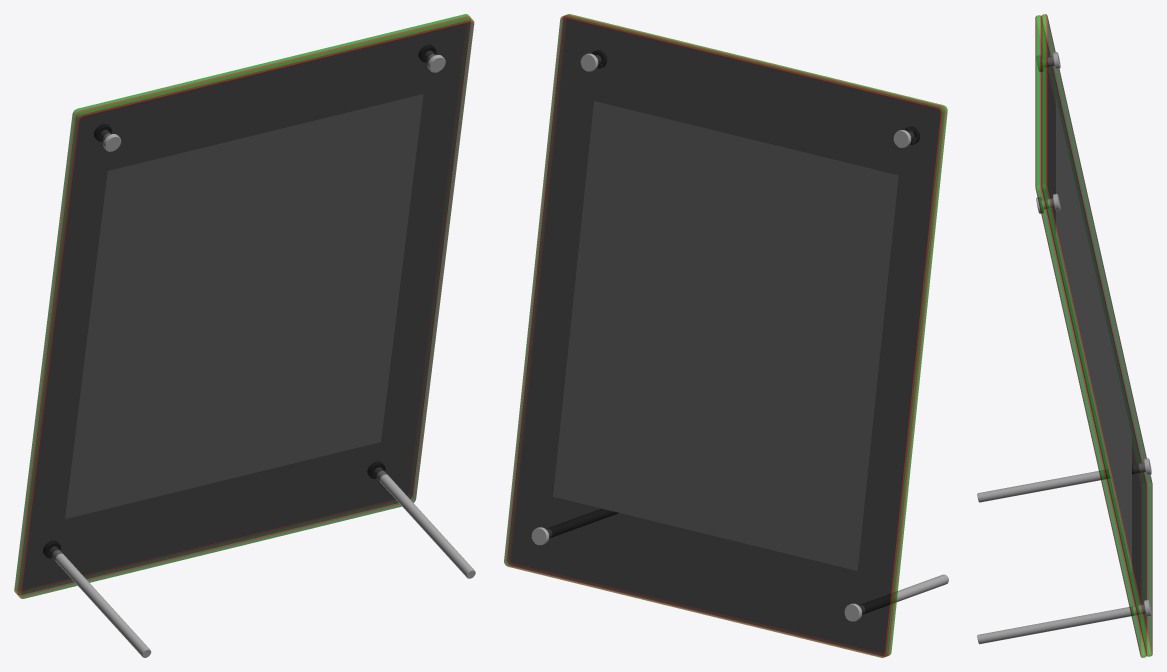
The model's file is MessageStand_01.fbx.
3 views of the same model, side by side, from view 1: azimuth 30°, elevation 25°; view 2: azimuth 150°, elevation 25°; view 3: azimuth 270°, elevation 25° (orthographic). The views are drawn at different scales.
Visible parts, largest first — view 1: Glass, MessageStand; view 2: Glass, MessageStand; view 3: Glass, MessageStand.
Part boxes in pixels (x1,y1,x2,y2): Glass: [14, 14, 474, 598]; MessageStand: [43, 45, 475, 657]; Glass: [504, 14, 947, 657]; MessageStand: [531, 51, 948, 621]; Glass: [1035, 14, 1152, 657]; MessageStand: [977, 52, 1151, 644].
Bounding box in the file's own units: 17.04 × 21.75 × 7.3.
